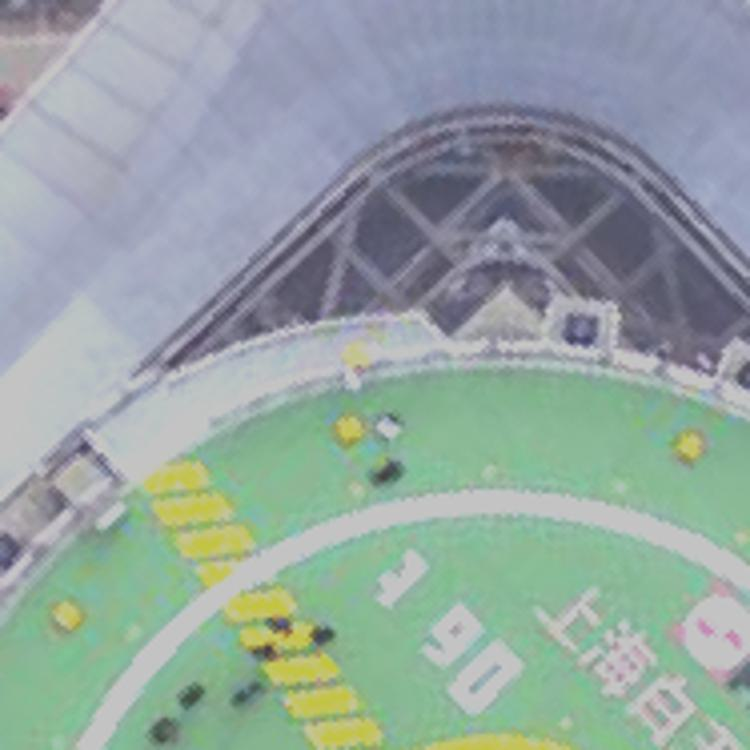Apron: (64, 477, 750, 748)
